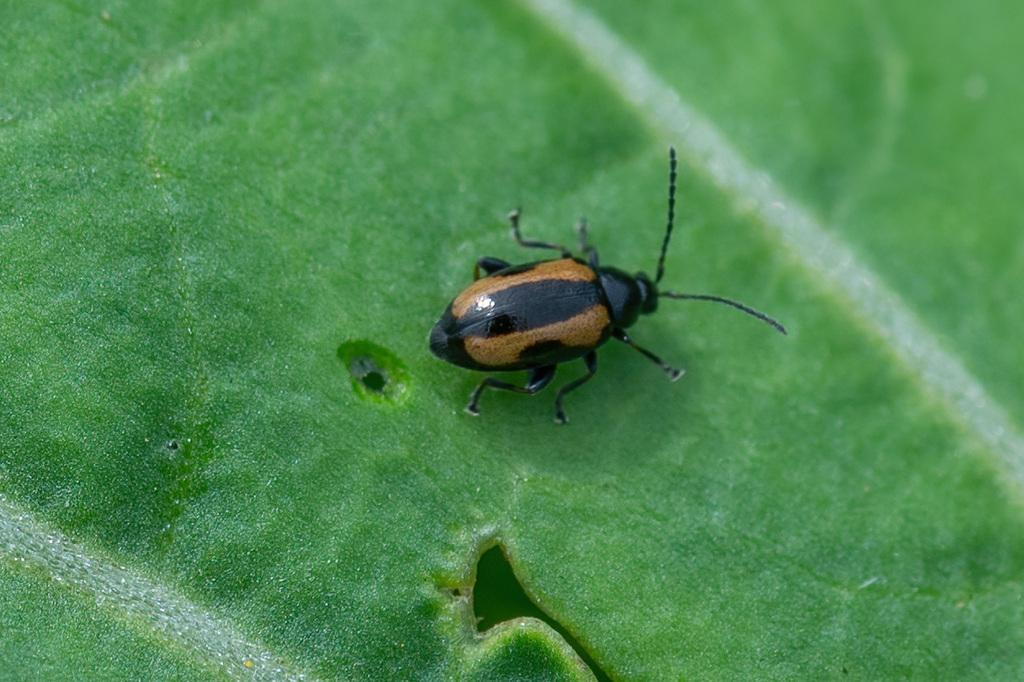flea_beetle: (399, 125, 811, 461)
